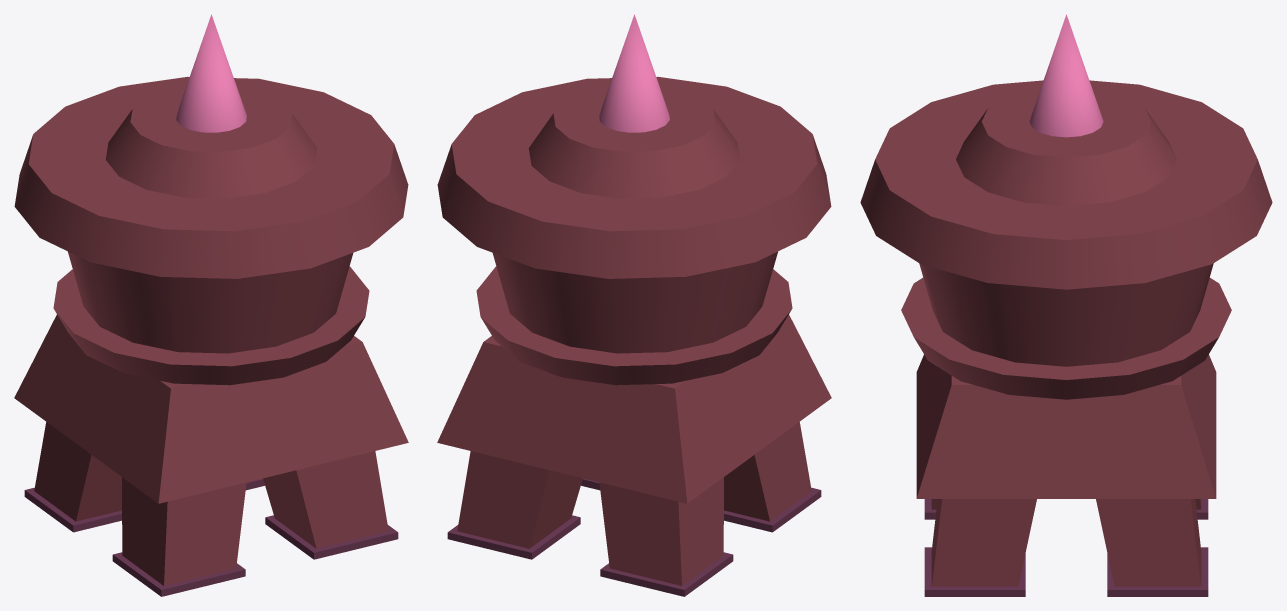
Rendered from anitbug2_2.fbx.
The picture shows the model from 3 angles, left to right: view 1: azimuth 30°, elevation 25°; view 2: azimuth 150°, elevation 25°; view 3: azimuth 270°, elevation 25°; orthographic projection. The views are drawn at different scales.
Visible parts, largest first — view 1: Cube.001; view 2: Cube.001; view 3: Cube.001.
Boxes of the visible parts, box(x1,y1,x2,y2) form: Cube.001: box(14, 14, 408, 596); Cube.001: box(437, 14, 831, 596); Cube.001: box(860, 14, 1272, 596).
Bounding box in the file's own units: 275 × 385 × 275.
